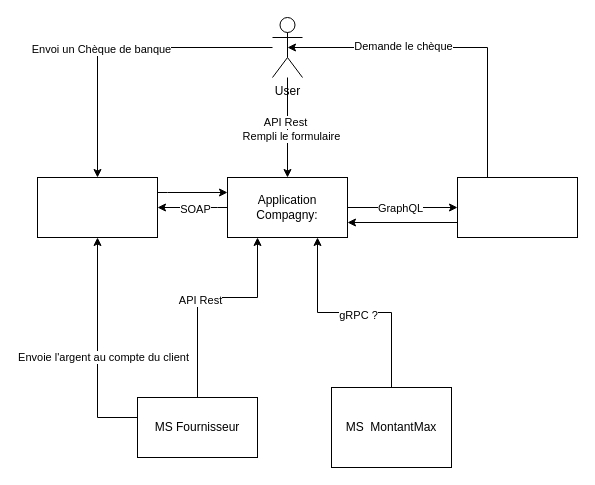
The diagram is 595 pixels wide and 485 high, and some of its shapes have lost their labels. The centre of each missing label's shape, as x and y in pixels:
"MS Banque" goes at point (97, 207).
"MS ProfilRisque" goes at point (517, 207).
